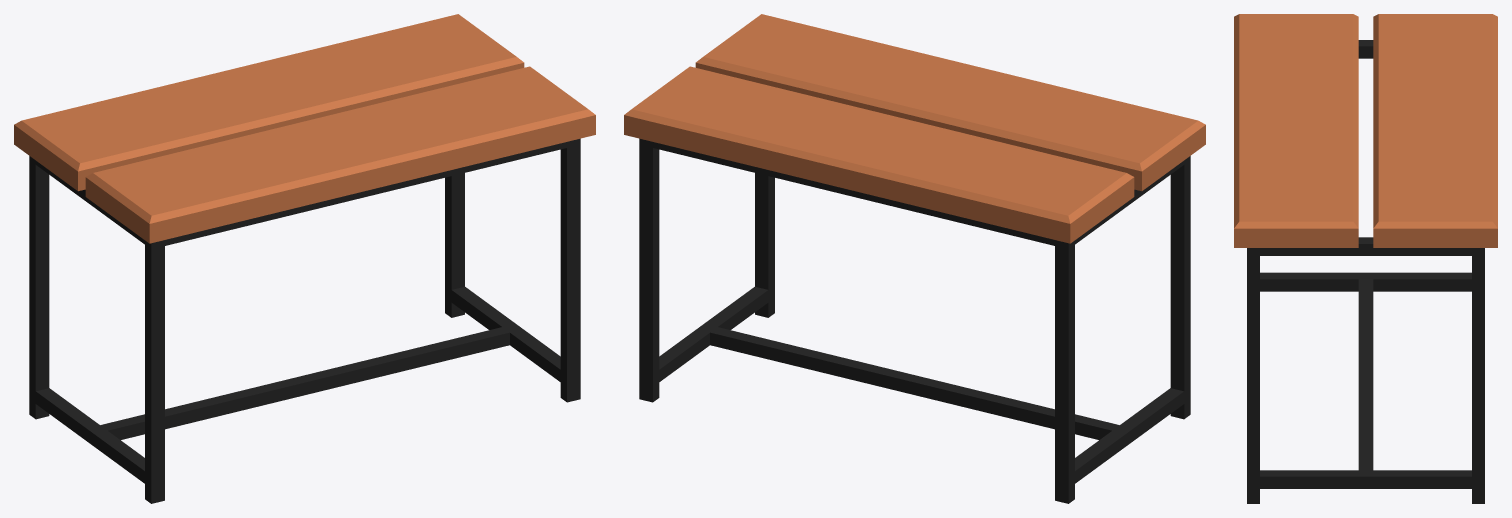
File: bank_short.glb
The picture shows the model from 3 angles, left to right: view 1: azimuth 30°, elevation 25°; view 2: azimuth 150°, elevation 25°; view 3: azimuth 270°, elevation 25°; orthographic projection. The views are drawn at different scales.
Parts seen in each view (by area): view 1: bank_short; view 2: bank_short; view 3: bank_short.
Part boxes in pixels (bbox=[...]): bank_short: bbox=[14, 14, 595, 503]; bank_short: bbox=[624, 14, 1205, 503]; bank_short: bbox=[1234, 14, 1497, 503].
Size of the model in its own units: 0.8023 by 0.5016 by 0.4221.
